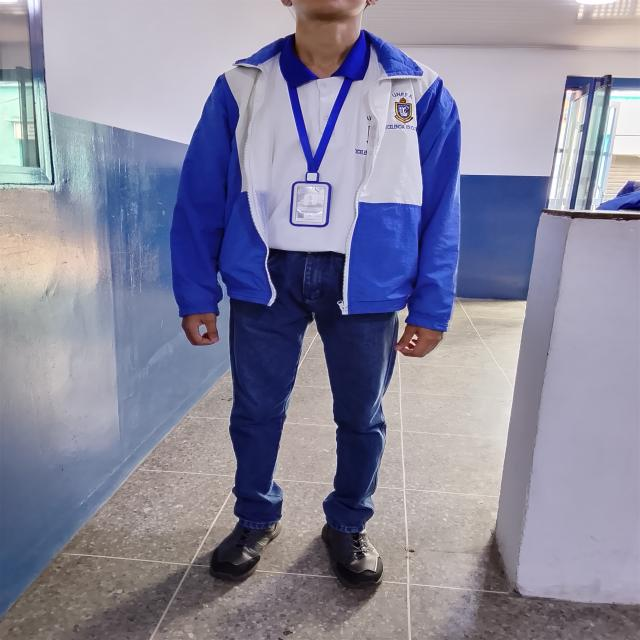carnet: (294, 185, 326, 222)
chaqueta_unefa: (170, 29, 462, 332)
